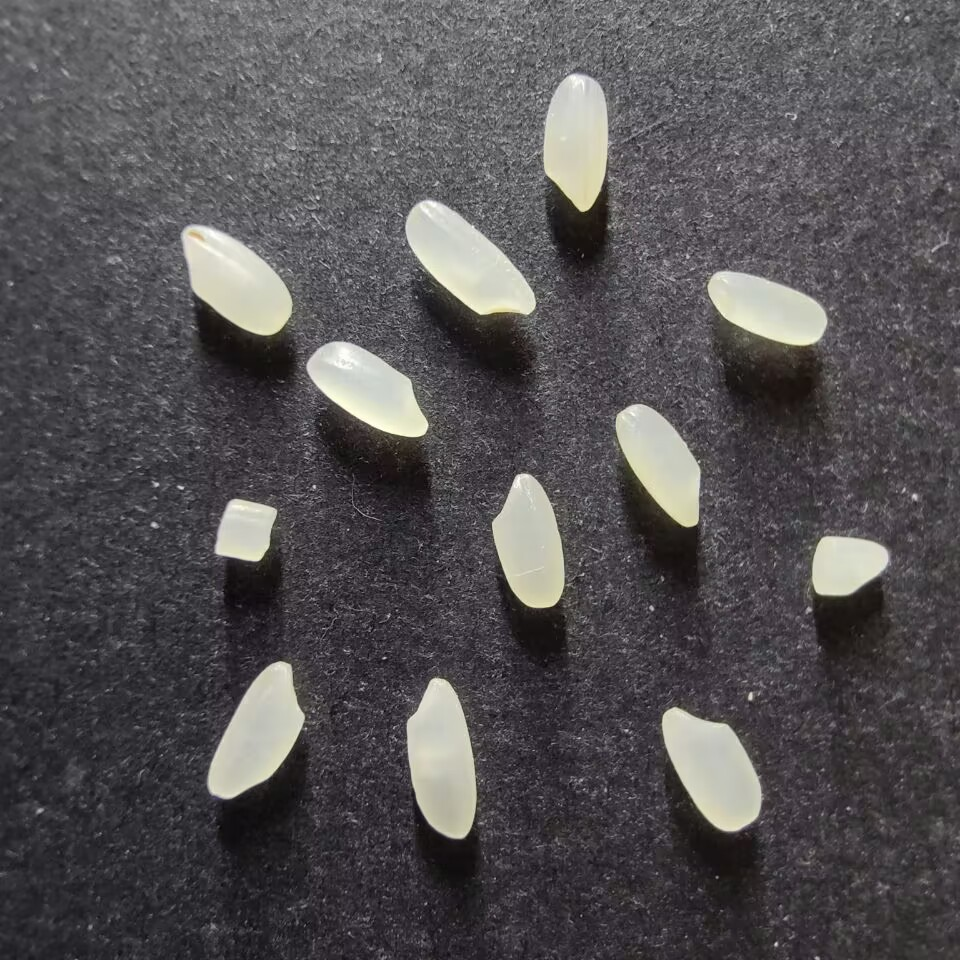broken: (810, 534, 889, 597), (212, 496, 278, 563)
rice: (403, 198, 538, 318), (206, 659, 305, 800), (660, 705, 763, 835), (178, 223, 293, 337), (305, 339, 431, 439), (404, 676, 477, 839), (612, 402, 704, 529), (489, 471, 565, 608), (540, 72, 609, 213), (706, 269, 829, 346)
